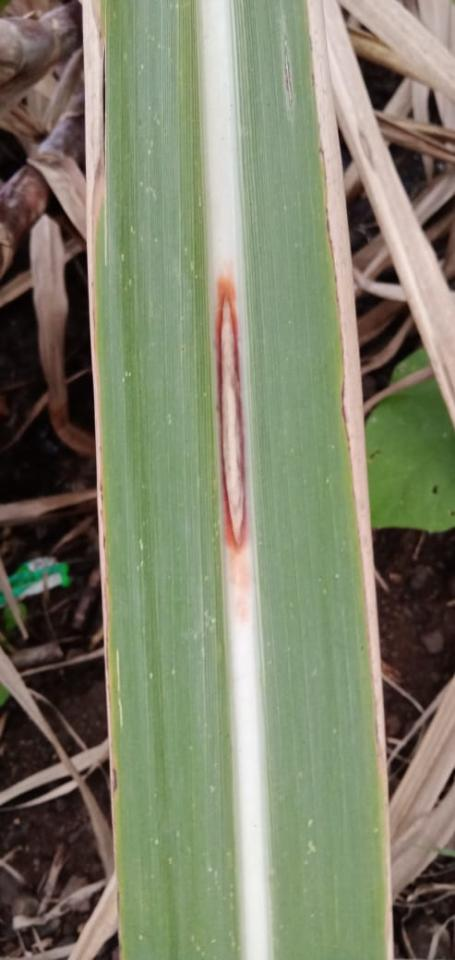RedRot: (204, 261, 257, 574)
